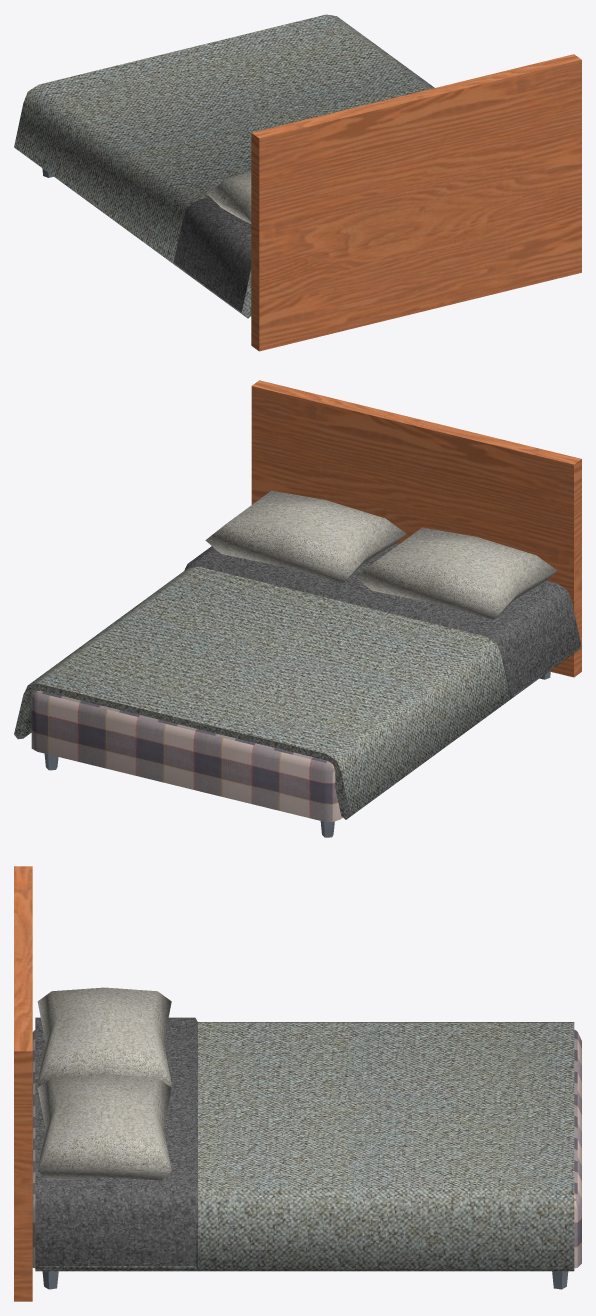
The model's file is Bed_09-col.glb.
3 views of the same model, one above another, from view 1: azimuth 30°, elevation 25°; view 2: azimuth 150°, elevation 25°; view 3: azimuth 270°, elevation 25° (orthographic). The views are drawn at different scales.
Visible parts, largest first — view 1: Bed_09-col, Pillow_13; view 2: Bed_09-col, Pillow_12, Pillow_13; view 3: Bed_09-col, Pillow_12, Pillow_13.
Part boxes in pixels (left/top/right/bottom): Bed_09-col: left=14, top=14, right=581, bottom=351; Pillow_13: left=207, top=171, right=251, bottom=223; Bed_09-col: left=14, top=380, right=581, bottom=837; Pillow_12: left=205, top=490, right=406, bottom=583; Pillow_13: left=356, top=527, right=557, bottom=620; Bed_09-col: left=14, top=866, right=581, bottom=1301; Pillow_12: left=37, top=1074, right=171, bottom=1180; Pillow_13: left=37, top=987, right=171, bottom=1086.
Size of the model in its own units: 2.06 by 1.23 by 2.53.
Materials: 6 (6 with a texture image).
